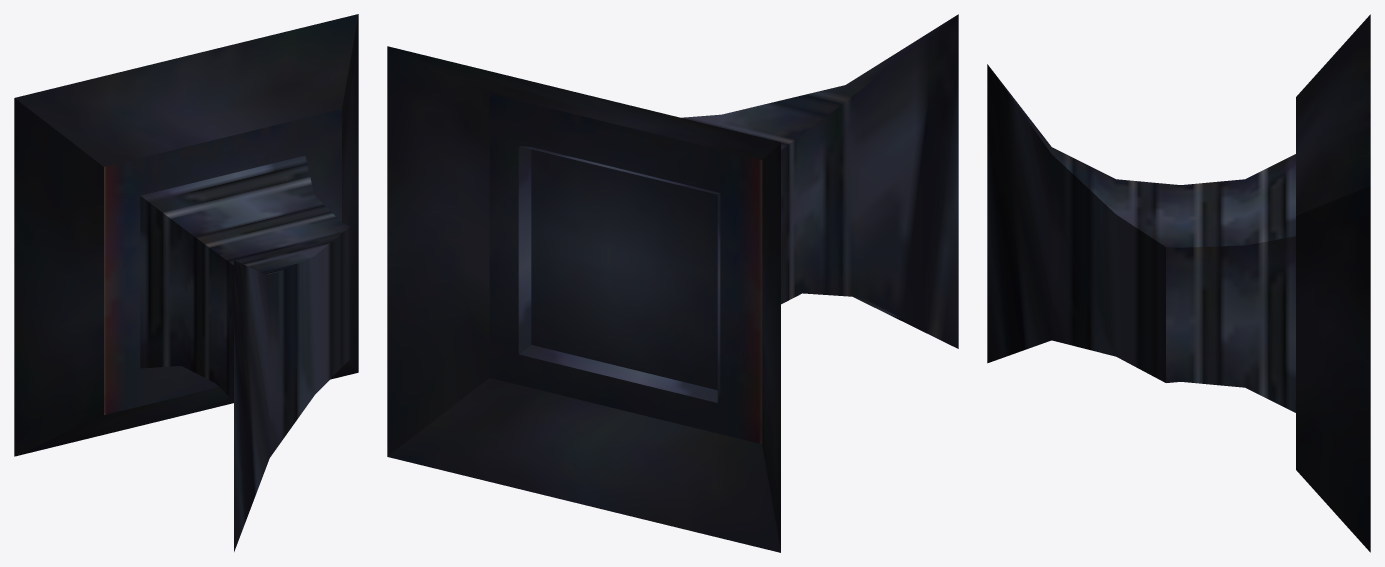
The model's file is Skill_Cowboy_01_Broken_07_a9dca847__Skill_Cowboy_01_Broken_4a527cb7_c1f257.obj.
3 views of the same model, side by side, from view 1: azimuth 30°, elevation 25°; view 2: azimuth 150°, elevation 25°; view 3: azimuth 270°, elevation 25° (orthographic). The views are drawn at different scales.
Size of the model in its own units: 0.2478 by 0.2469 by 0.2337.
Materials: 1 (1 with a texture image).
